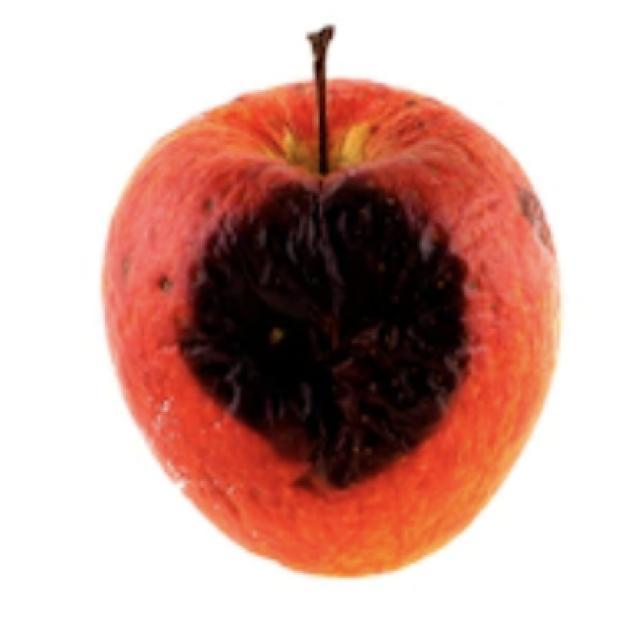Rotten: (108, 90, 572, 572)
